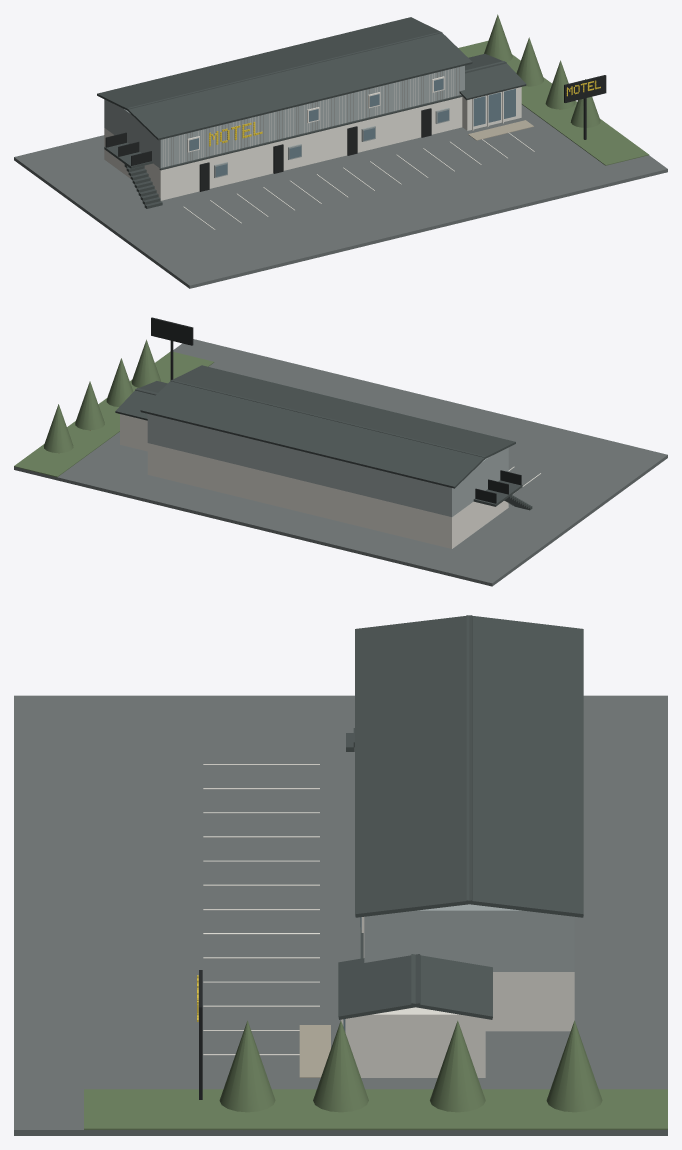
The model's file is exterior-v1.glb.
The picture shows the model from 3 angles, top to bottom: view 1: azimuth 30°, elevation 25°; view 2: azimuth 150°, elevation 25°; view 3: azimuth 270°, elevation 25°; orthographic projection. The views are drawn at different scales.
Parts seen in each view (by area): view 1: parking surface, front roof slope, upper storey, lower storey, rear roof slope, grass strip, evergreen (×4), entrance roof front, upper floor band, entrance wing, roadside sign board, access path (+1 smaller); view 2: parking surface, rear roof slope, lower storey, upper storey, front roof slope, grass strip, evergreen (×4), entrance wing, roadside sign board, entrance roof rear; view 3: parking surface, front roof slope, rear roof slope, grass strip, upper storey, evergreen (×4), entrance wing, lower storey, entrance roof front, entrance roof rear, access path.
Boxes of the visible parts, <box> form: parking surface: <box>14,104,667,288</box>; front roof slope: <box>127,31,472,140</box>; upper storey: <box>104,65,464,167</box>; lower storey: <box>104,97,462,200</box>; rear roof slope: <box>97,17,442,110</box>; grass strip: <box>458,41,648,165</box>; evergreen (×4): <box>484,14,600,127</box>; entrance roof front: <box>459,61,526,100</box>; upper floor band: <box>159,95,462,170</box>; entrance wing: <box>462,87,521,130</box>; roadside sign board: <box>564,75,606,102</box>; access path: <box>468,120,533,140</box>; parking surface: <box>14,339,667,586</box>; rear roof slope: <box>140,380,485,488</box>; lower storey: <box>147,443,508,548</box>; upper storey: <box>147,414,508,516</box>; front roof slope: <box>170,365,515,459</box>; grass strip: <box>14,351,214,477</box>; evergreen (×4): <box>43,339,161,452</box>; entrance wing: <box>120,414,147,451</box>; roadside sign board: <box>151,317,193,345</box>; entrance roof rear: <box>115,388,157,420</box>; parking surface: <box>14,695,667,1135</box>; front roof slope: <box>355,615,472,917</box>; rear roof slope: <box>466,615,583,917</box>; grass strip: <box>84,1089,667,1130</box>; upper storey: <box>364,904,574,971</box>; evergreen (×4): <box>219,1020,602,1112</box>; entrance wing: <box>345,1007,485,1077</box>; lower storey: <box>485,972,574,1031</box>; entrance roof front: <box>338,954,420,1019</box>; entrance roof rear: <box>411,954,492,1019</box>; access path: <box>299,1025,330,1077</box>.
Bounding box in the file's own units: 44 × 6.67 × 28.
